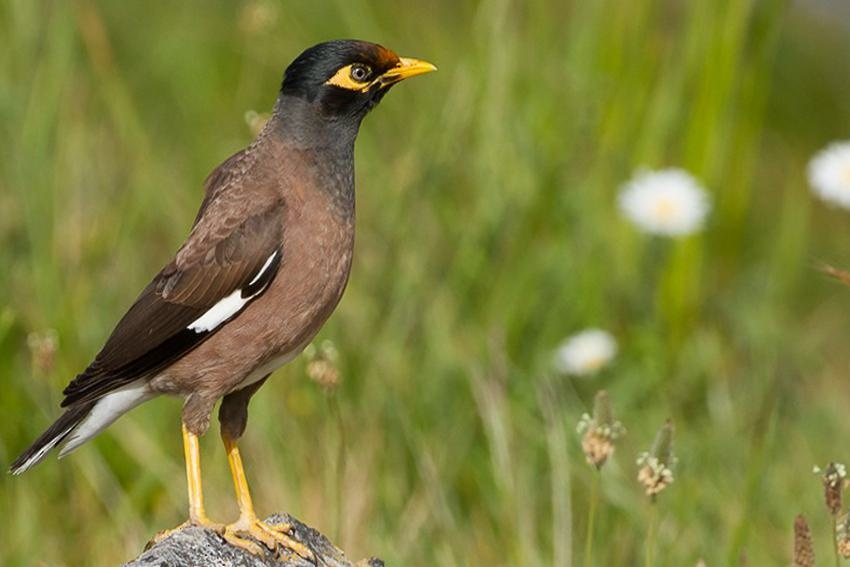myna: (40, 20, 478, 499)
